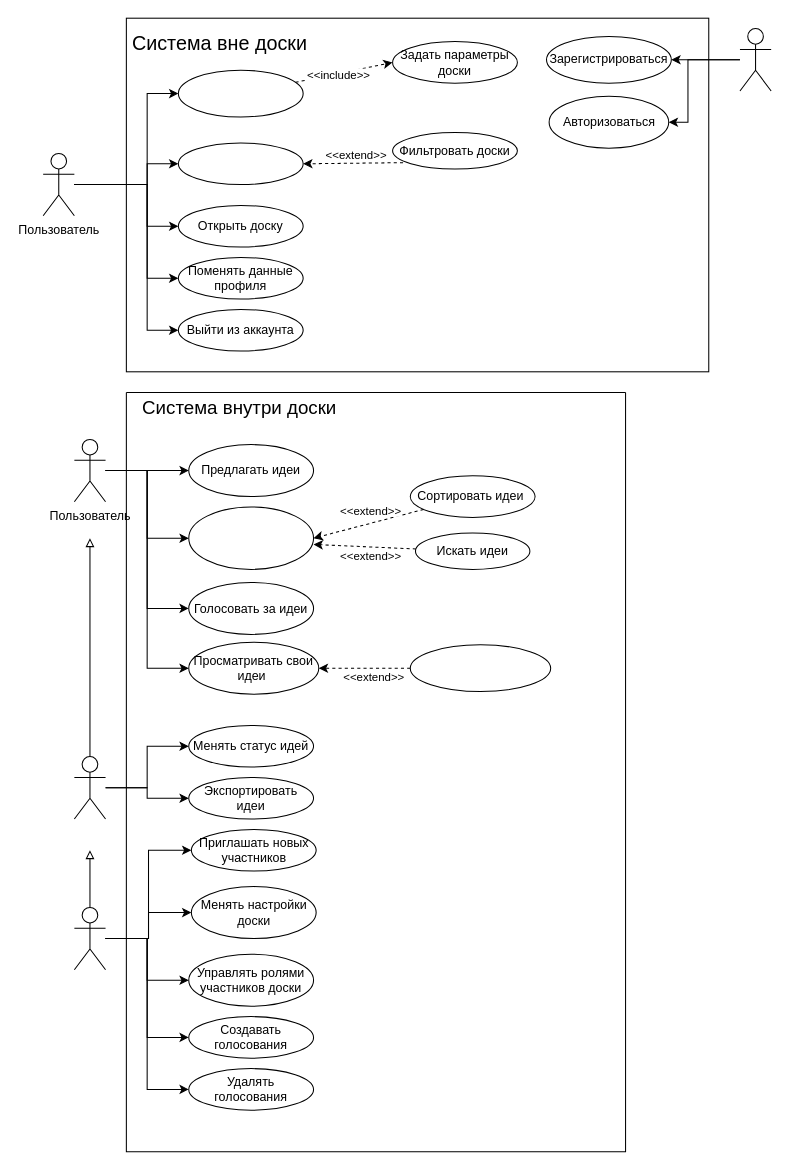
Some shapes in this 789 by 1170 pixel diagram are drawn without their labels. The centre of each missing label's shape, as x and y in pixels:
"Администратор" belongs at [89,938].
"Гость" belongs at [755,59].
"Модератор" belongs at [89,787].
"Просматривать идеи на доске" belongs at [251,537].
"Просматривать список досок" belongs at [240,163].
"Создать доску" belongs at [240,93].
"Удалить свою идею" belongs at [480,668].
